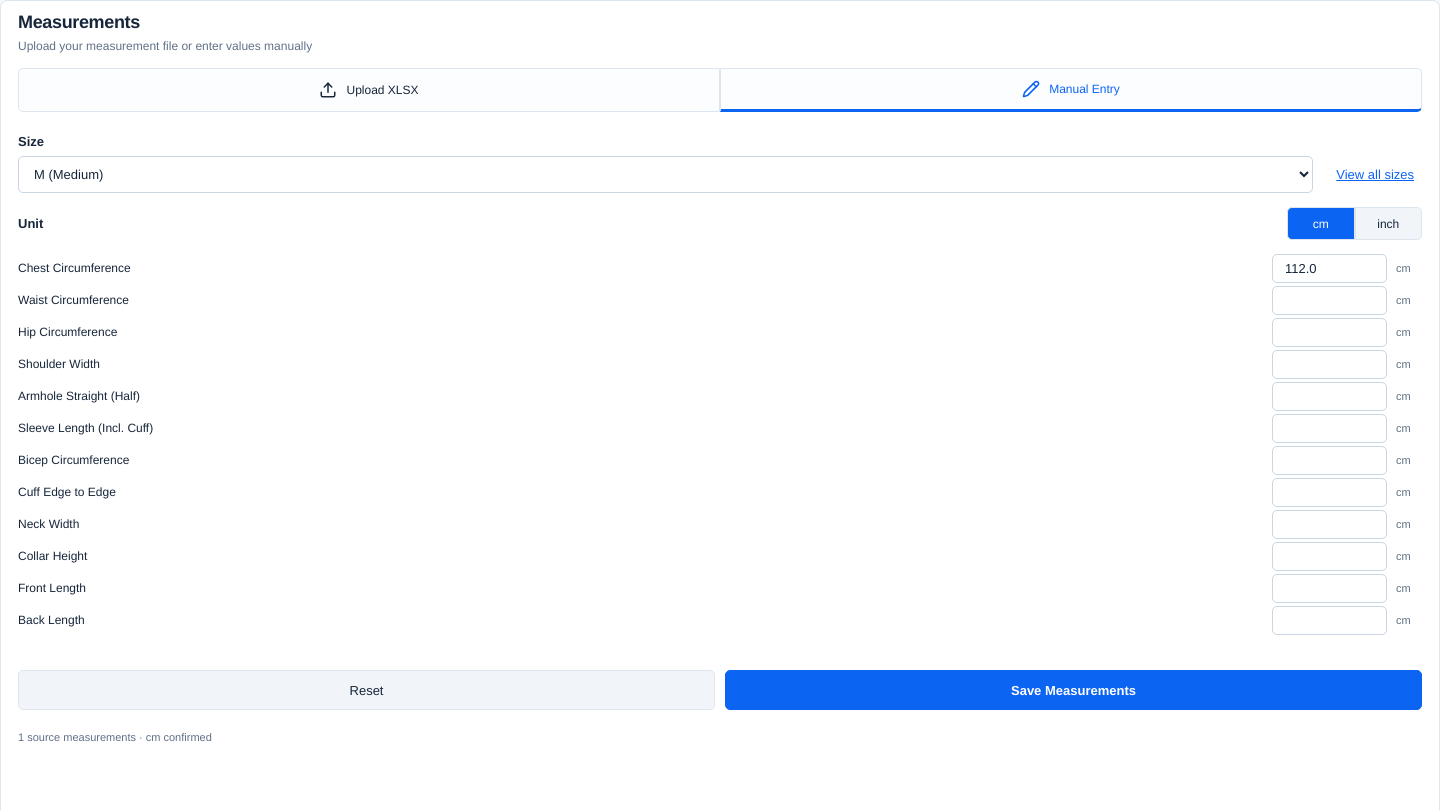
Test case: Measurements Reset › discards unsaved edits and restores source values
The image size is (1440, 810).
Replace the text in the number field labelled "Chest Circumference" with "999" at (1330, 268), box x1=1272 y1=254 x2=1387 y2=282
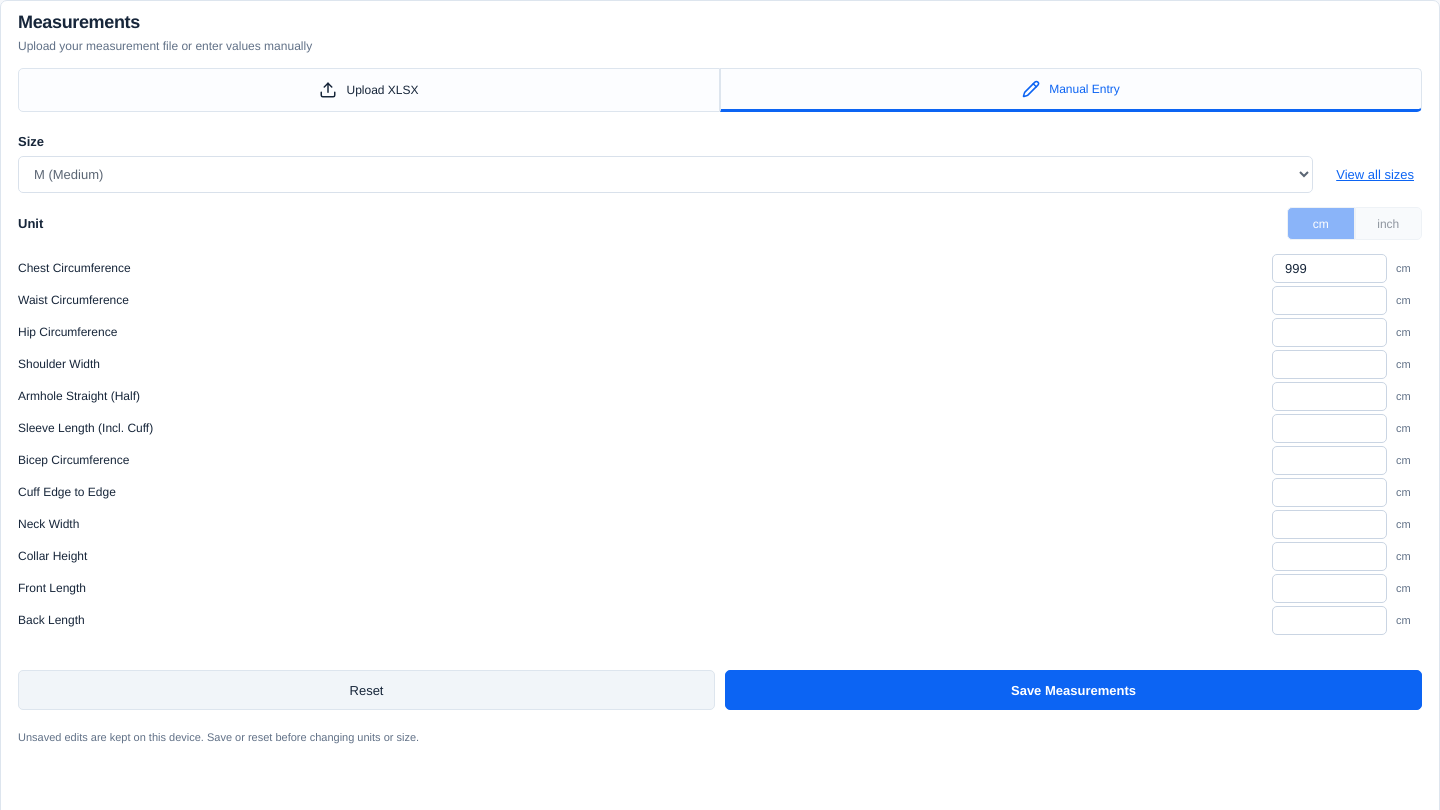
Click the button "Reset" at (366, 690), box x1=18 y1=670 x2=715 y2=710
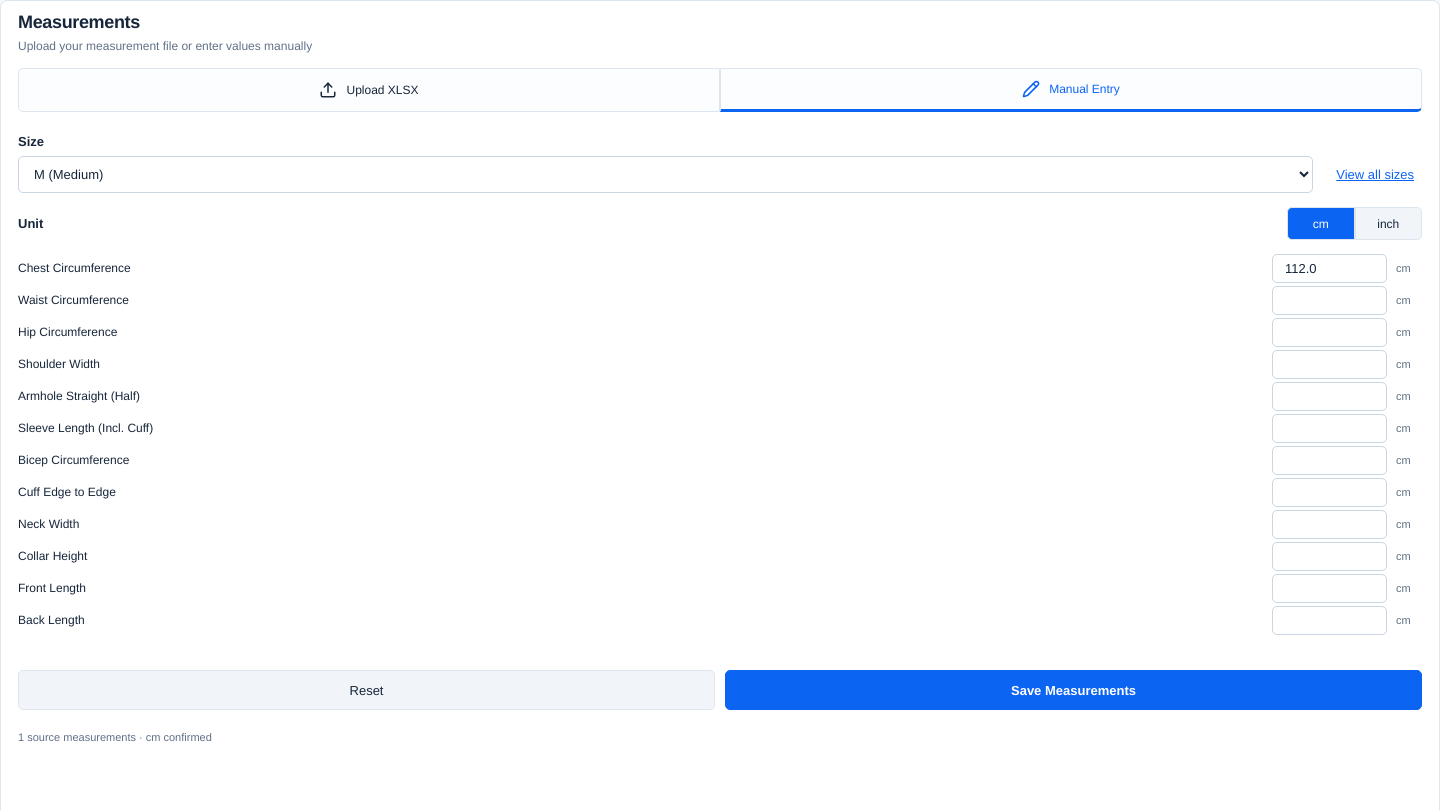
Result: the number field labelled "Chest Circumference" holds "112.0" at x1=1272 y1=254 x2=1387 y2=282
